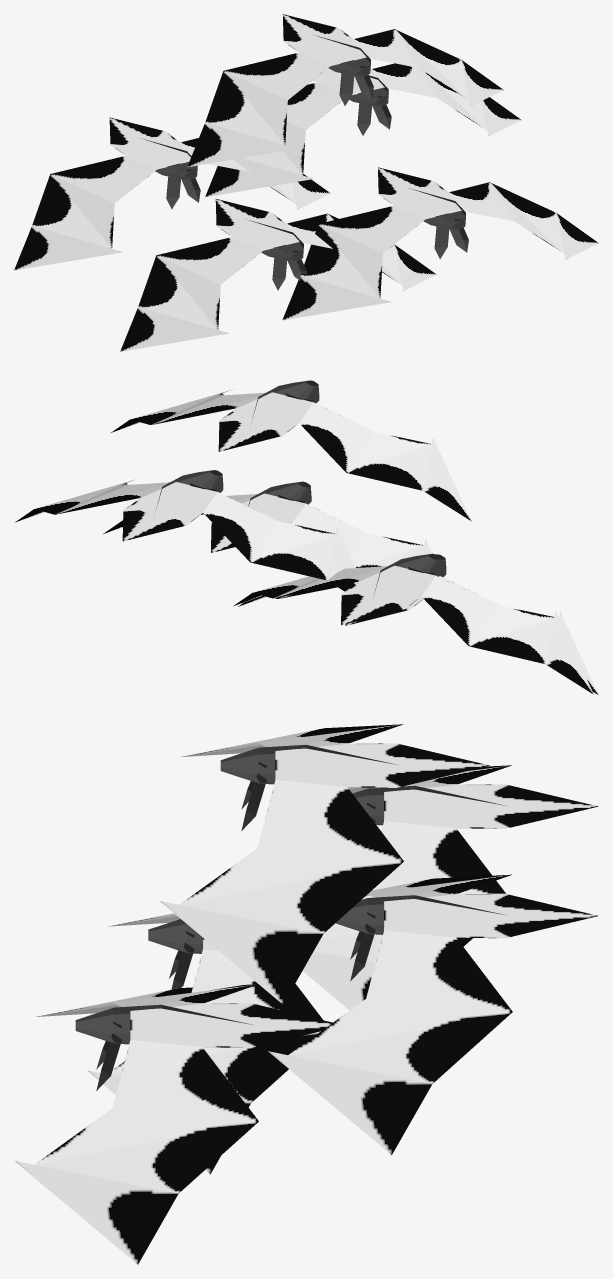
The picture shows the model from 3 angles, top to bottom: view 1: azimuth 30°, elevation 25°; view 2: azimuth 150°, elevation 25°; view 3: azimuth 270°, elevation 25°; orthographic projection. The views are drawn at different scales.
Parts seen in each view (by area): view 1: 010_shape2, 016_shape2, 013_shape2, 022_shape2, 019_shape2; view 2: 010_shape2, 022_shape2, 019_shape2, 016_shape2, 013_shape2; view 3: 010_shape2, 016_shape2, 019_shape2, 022_shape2, 013_shape2.
Part boxes in pixels (left/top/right/bottom): 010_shape2: left=187, top=14, right=503, bottom=167; 016_shape2: left=282, top=167, right=598, bottom=320; 013_shape2: left=120, top=199, right=436, bottom=351; 022_shape2: left=14, top=117, right=330, bottom=270; 019_shape2: left=205, top=63, right=521, bottom=197; 010_shape2: left=111, top=380, right=471, bottom=521; 022_shape2: left=233, top=553, right=593, bottom=694; 019_shape2: left=15, top=470, right=358, bottom=591; 016_shape2: left=103, top=481, right=432, bottom=567; 013_shape2: left=238, top=554, right=598, bottom=695; 010_shape2: left=159, top=724, right=489, bottom=1004; 016_shape2: left=15, top=984, right=332, bottom=1264; 019_shape2: left=268, top=874, right=597, bottom=1154; 022_shape2: left=302, top=765, right=598, bottom=1010; 013_shape2: left=87, top=913, right=322, bottom=1173.
Size of the model in its own units: 3.99 by 1.67 by 2.42.
2 materials, 1 textured.
